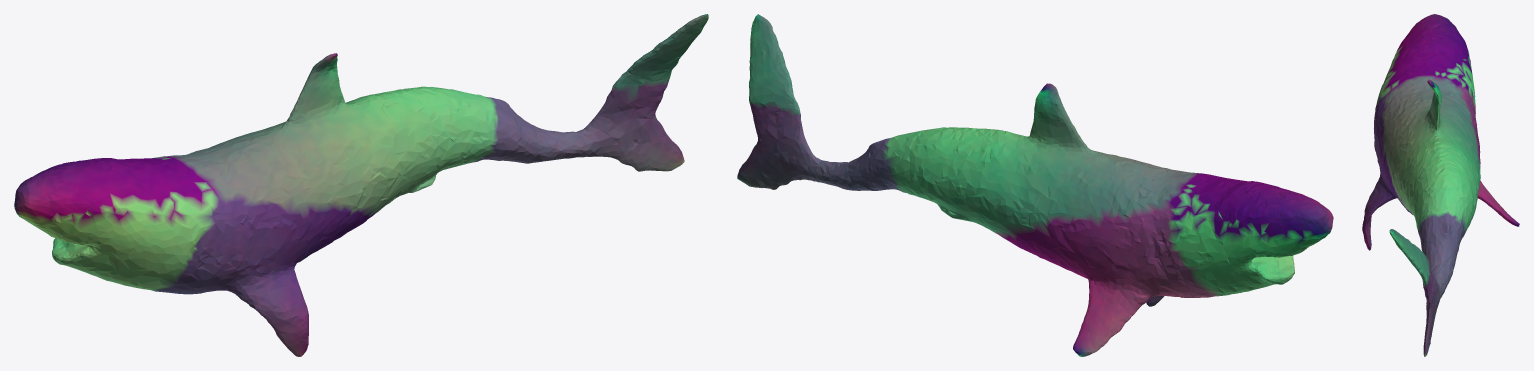
File: shark-17.off.obj
3 renders of one model, left to right at view 1: azimuth 30°, elevation 25°; view 2: azimuth 150°, elevation 25°; view 3: azimuth 270°, elevation 25°, orthographic. The views are drawn at different scales.
Bounding box in the file's own units: 1.45 × 0.5359 × 0.3891.
